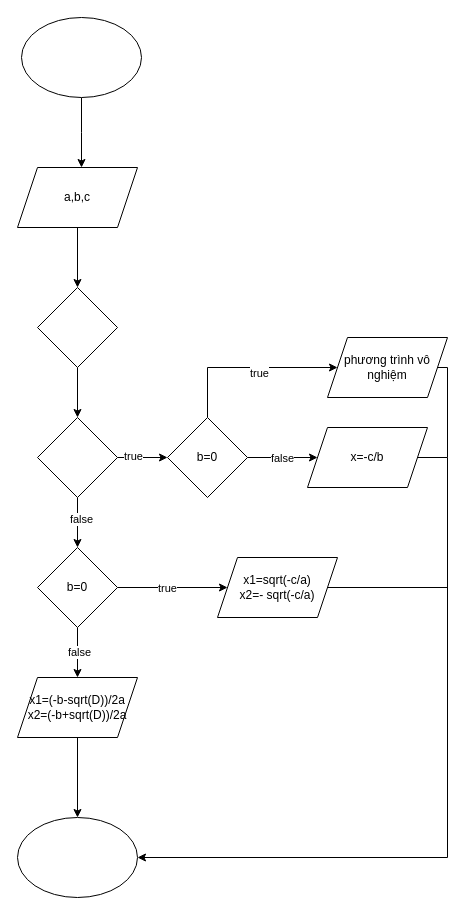
Image size: 473x915. Some labels were removed from this diagram. Each missing label, with the centre of its shape:
"a=0" goes at pixel 77 457.
"ax^2+bx+c=0" goes at pixel 77 327.
"End" goes at pixel 77 857.
"Start" goes at pixel 81 57.
